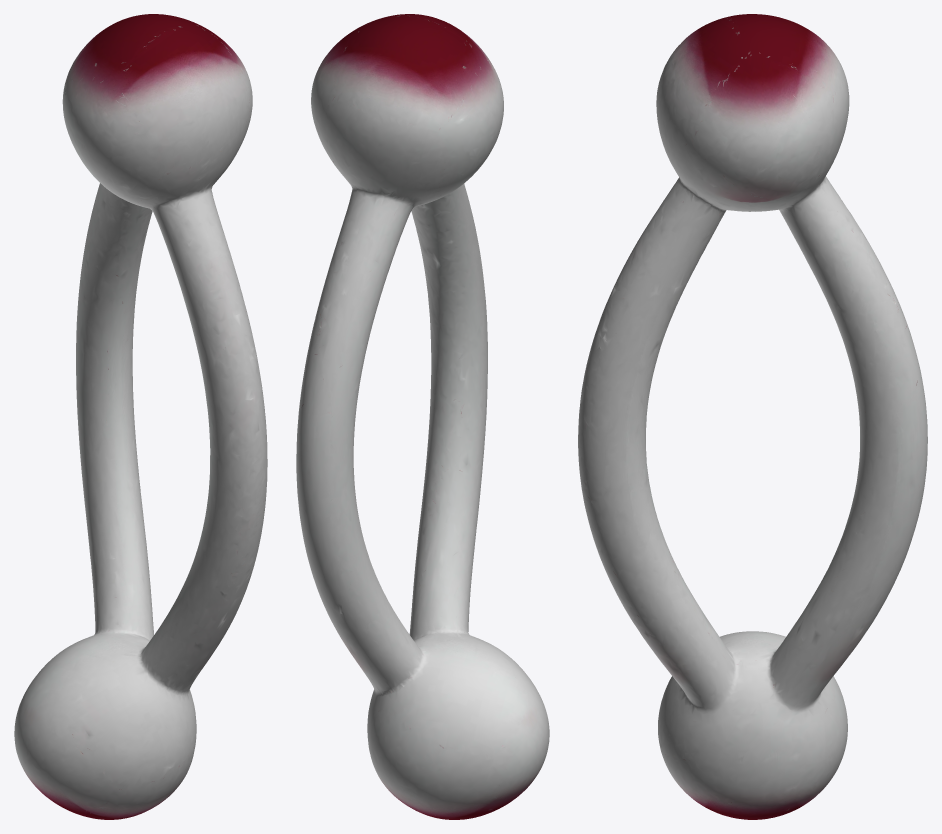
The model's file is ball_disc_navel.glb.
The picture shows the model from 3 angles, left to right: view 1: azimuth 30°, elevation 25°; view 2: azimuth 150°, elevation 25°; view 3: azimuth 270°, elevation 25°; orthographic projection. The views are drawn at different scales.
Visible parts, largest first — view 1: Mesh_0; view 2: Mesh_0; view 3: Mesh_0.
Part boxes in pixels (box(x1,y1,x2,y2)): Mesh_0: box(14, 14, 267, 819); Mesh_0: box(296, 14, 549, 819); Mesh_0: box(578, 14, 927, 819).
Size of the model in its own units: 0.5638 by 1.91 by 0.744.
1 material, 1 textured.
